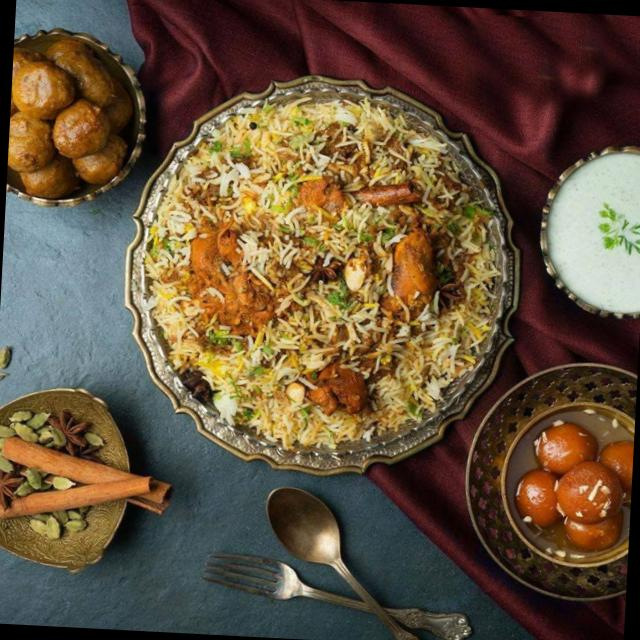Biryani: (136, 94, 502, 463)
